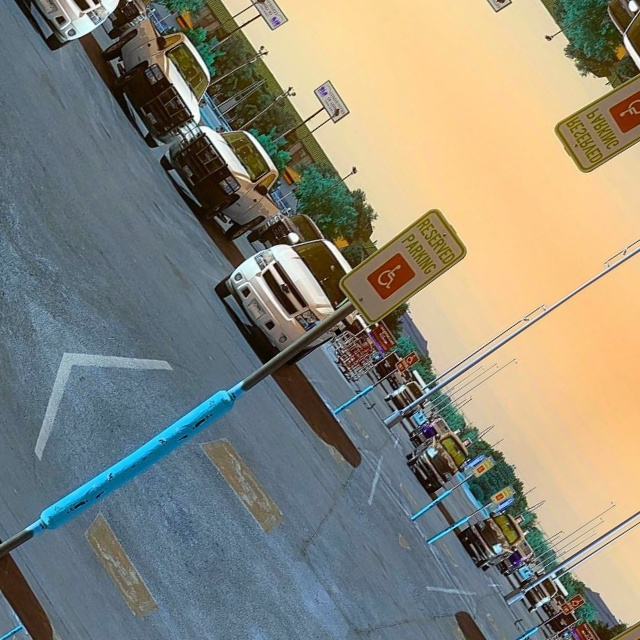ISA: (371, 257, 413, 297), (613, 92, 640, 131), (404, 351, 422, 368), (568, 591, 586, 608), (491, 488, 507, 503), (473, 463, 490, 477), (625, 630, 640, 640)
